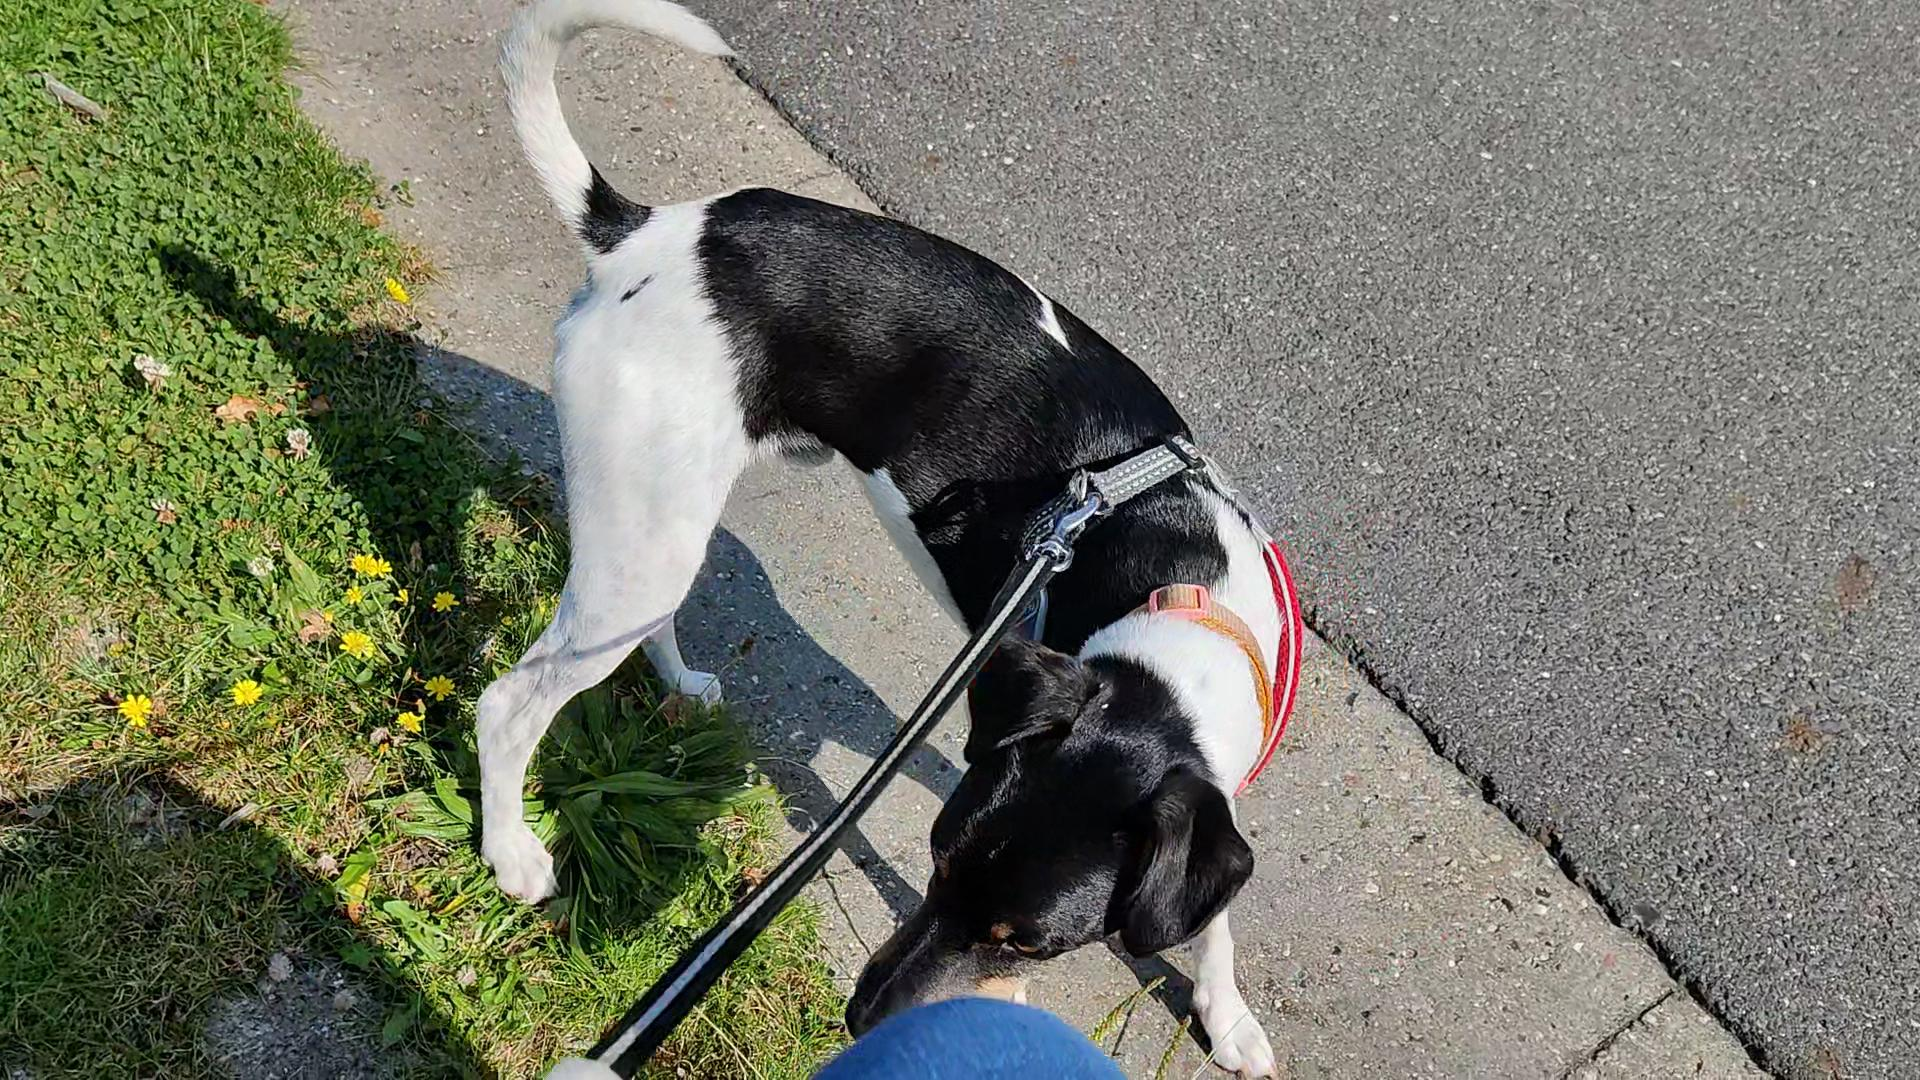Dog: (459, 0, 1313, 1079)
